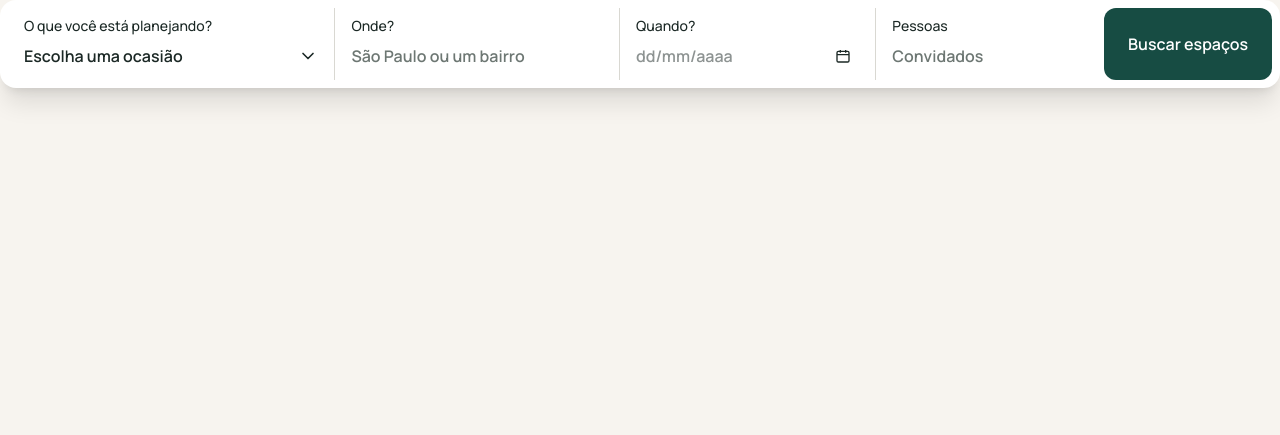
Test case: VenueSearch › closes the desktop occasion menu with Escape
Click the button "Escolha uma ocasião": [171, 56] box [24, 40, 318, 72]
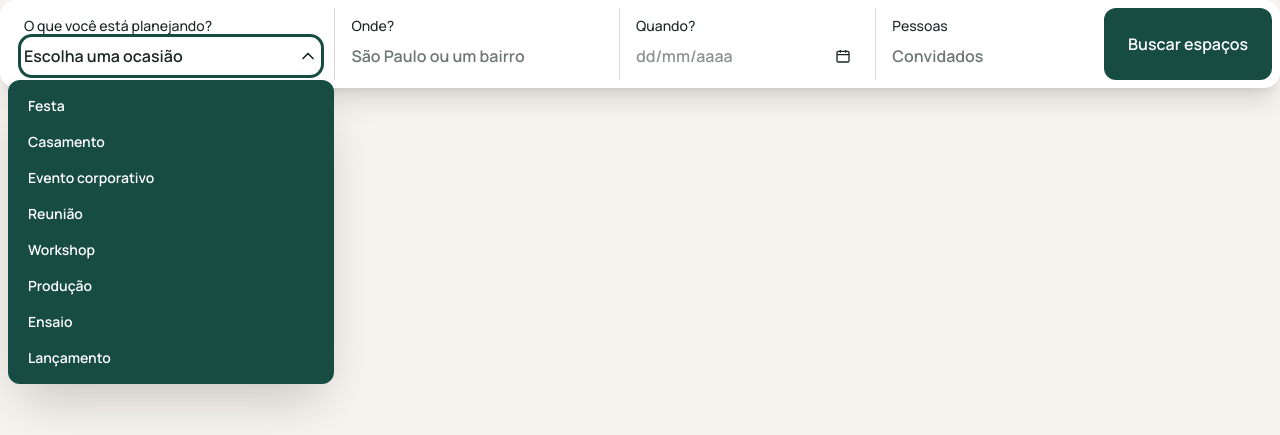
Press Escape
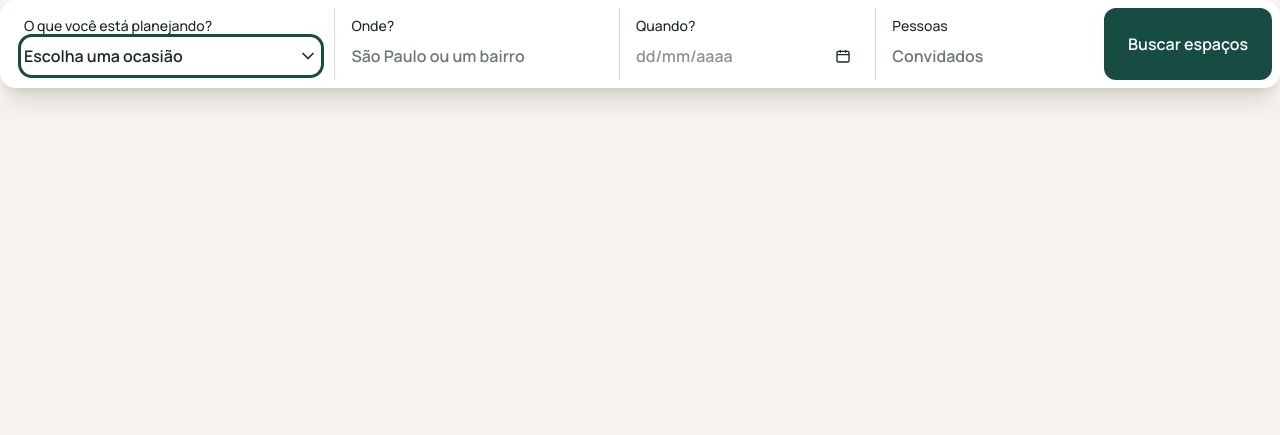
Check: the list is gone
